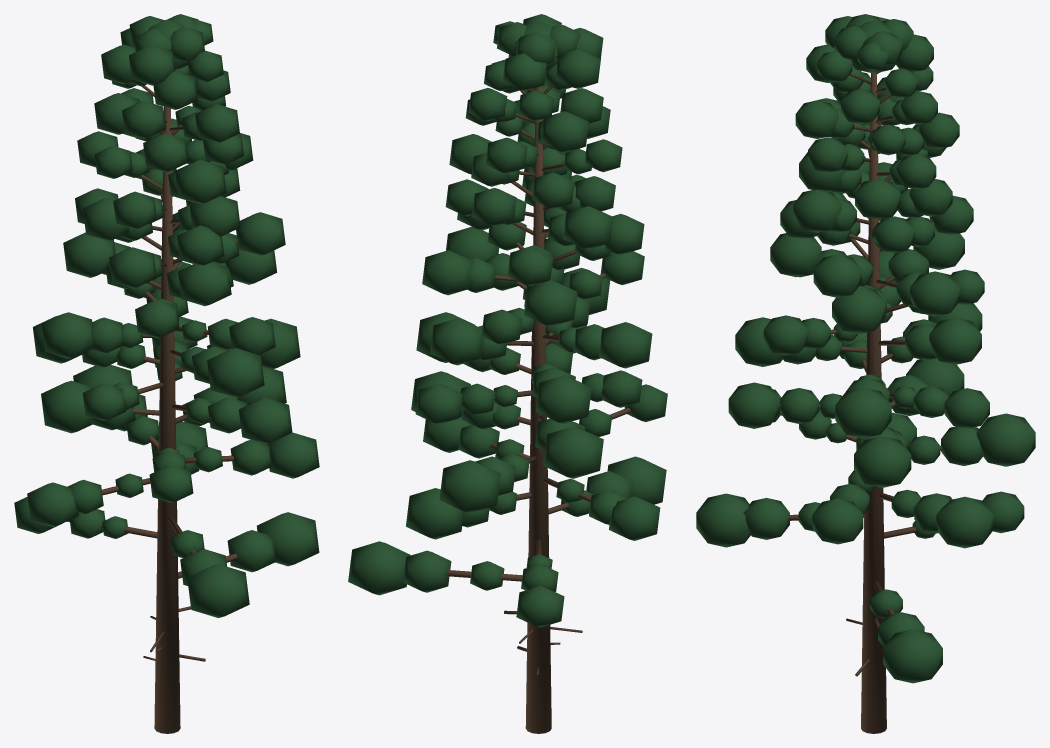
The model's file is pine_spruce_narrow.glb.
3 renders of one model, left to right at view 1: azimuth 30°, elevation 25°; view 2: azimuth 150°, elevation 25°; view 3: azimuth 270°, elevation 25°, orthographic.
Visible parts, largest first — view 1: pine_spruce_narrow; view 2: pine_spruce_narrow; view 3: pine_spruce_narrow.
Part boxes in pixels (x1,y1,x2,y2): pine_spruce_narrow: (14, 14, 319, 733); pine_spruce_narrow: (348, 14, 667, 733); pine_spruce_narrow: (696, 14, 1035, 733).
Size of the model in its own units: 7.32 by 16.8 by 7.29.
